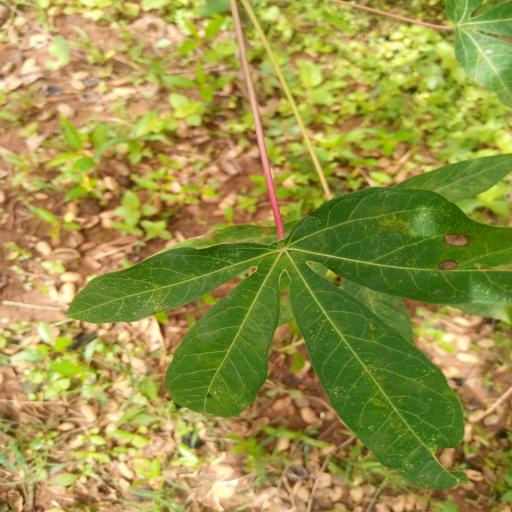Cassava_Brown_Leaf_Spot: (67, 186, 512, 491)
